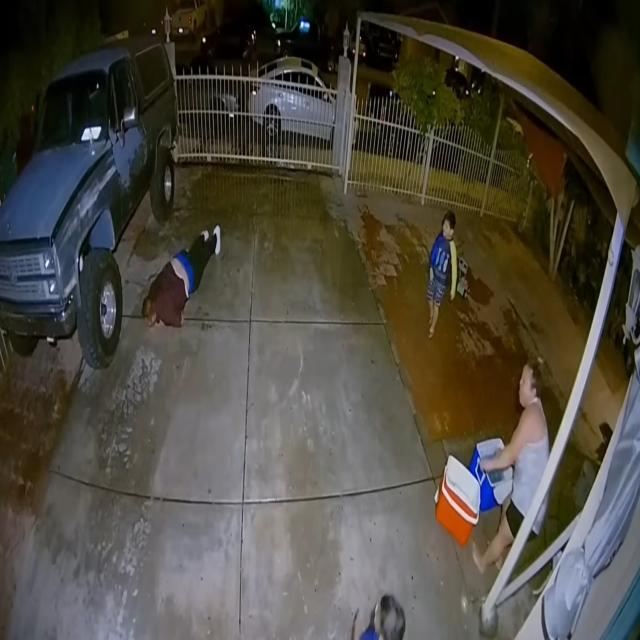fallen: (142, 225, 221, 326)
standing: (472, 363, 549, 572), (427, 210, 458, 338), (528, 494, 548, 540)
